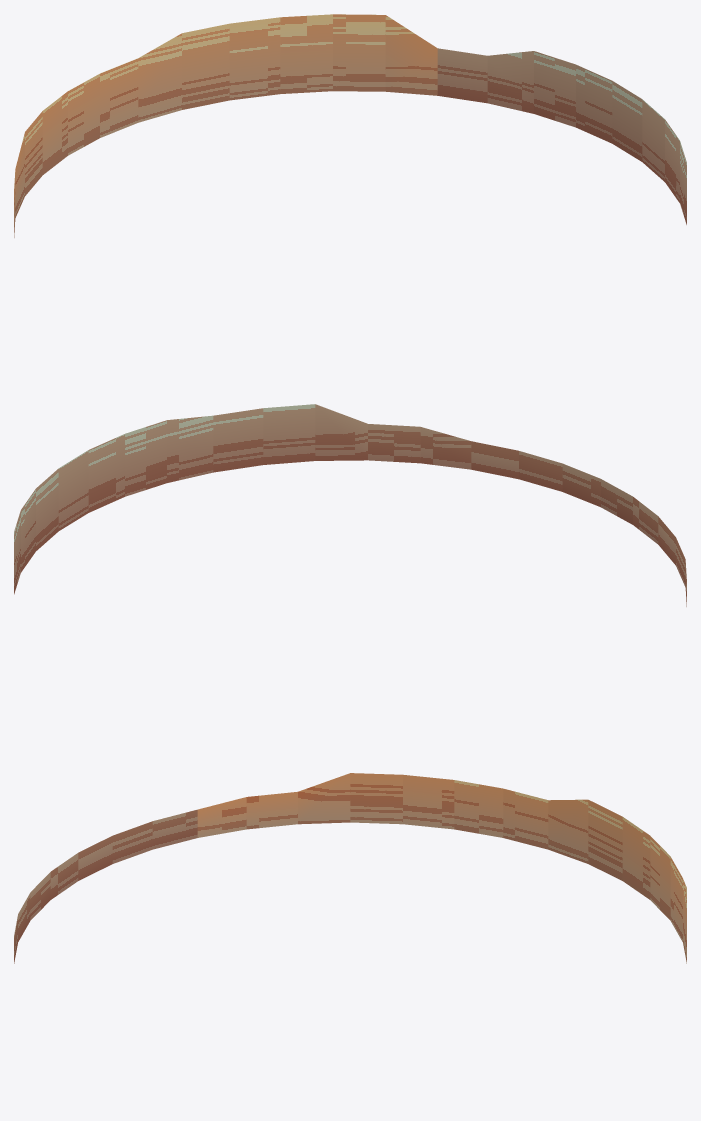
Rendered from wsky.mesas__canyon.glb.
The picture shows the model from 3 angles, top to bottom: view 1: azimuth 30°, elevation 25°; view 2: azimuth 150°, elevation 25°; view 3: azimuth 270°, elevation 25°; orthographic projection.
Visible parts, largest first — view 1: kit_shell_mesas; view 2: kit_shell_mesas; view 3: kit_shell_mesas.
Boxes of the visible parts, left/top/right/bottom form: kit_shell_mesas: left=14, top=14, right=686, bottom=237; kit_shell_mesas: left=14, top=404, right=686, bottom=606; kit_shell_mesas: left=14, top=773, right=686, bottom=963.
Size of the model in its own units: 104 by 13.09 by 104.
1 material, 1 textured.
